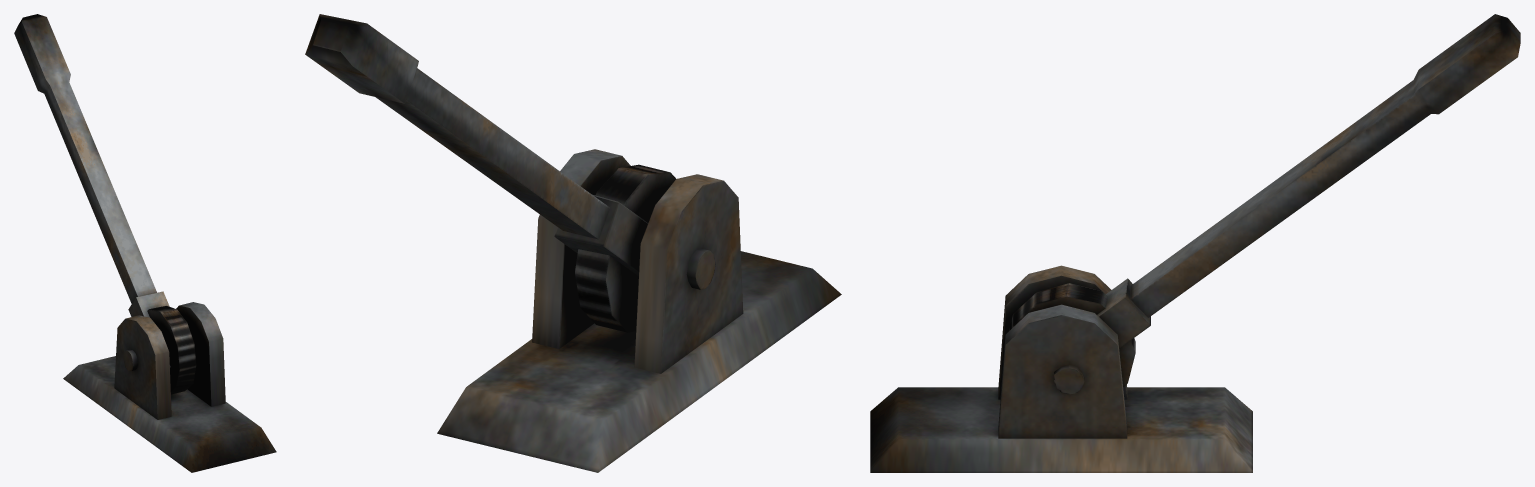
Rendered from SWITCH.obj.
The picture shows the model from 3 angles, left to right: view 1: azimuth 30°, elevation 25°; view 2: azimuth 150°, elevation 25°; view 3: azimuth 270°, elevation 25°; orthographic projection. The views are drawn at different scales.
Parts seen in each view (by area): view 1: Group; view 2: Group; view 3: Group.
Part boxes in pixels (x1,y1,x2,y2): Group: (14,14,276,472); Group: (305,14,841,472); Group: (870,14,1520,472).
Bounding box in the file's own units: 11.2 × 36.12 × 49.9.
1 material, 1 textured.
